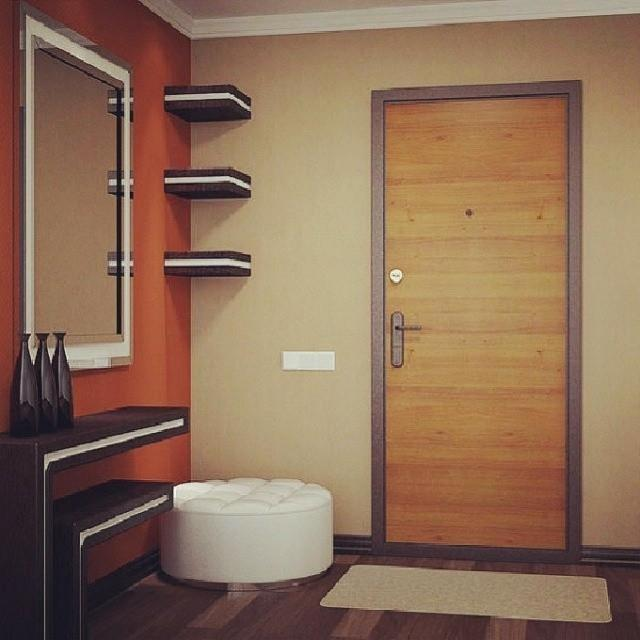close: (381, 98, 577, 554)
